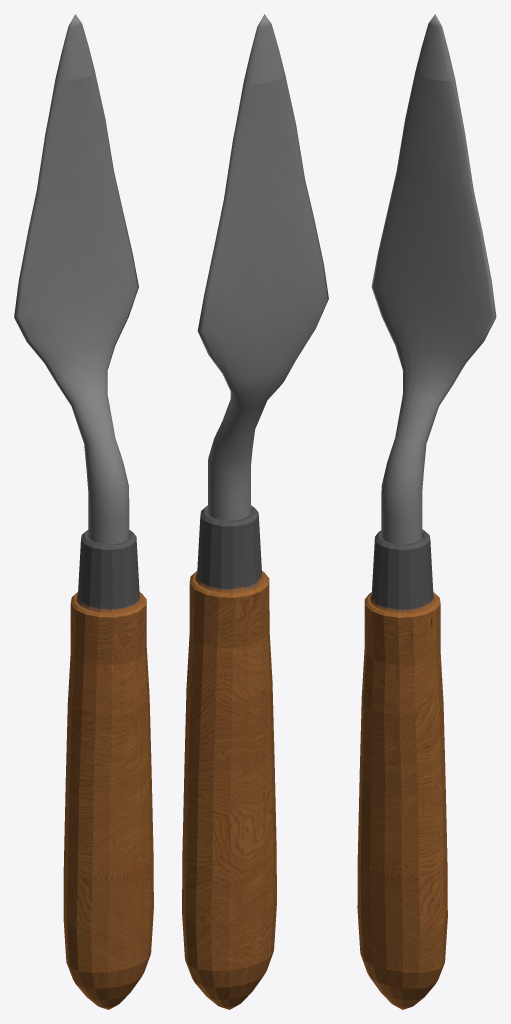
File: palette knife (full body).fbx
3 views of the same model, side by side, from view 1: azimuth 30°, elevation 25°; view 2: azimuth 210°, elevation 25°; view 3: azimuth 330°, elevation 25° (orthographic). The views are drawn at different scales.
Visible parts, largest first — view 1: pCylinder1, pCylinder2; view 2: pCylinder1, pCylinder2; view 3: pCylinder1, pCylinder2.
Part boxes in pixels (bbox=[...]): pCylinder1: bbox=[63, 530, 153, 1009]; pCylinder2: bbox=[14, 14, 138, 544]; pCylinder1: bbox=[182, 505, 276, 1009]; pCylinder2: bbox=[197, 14, 328, 520]; pCylinder1: bbox=[357, 529, 447, 1009]; pCylinder2: bbox=[371, 14, 496, 544].
Size of the model in its own units: 3.77 by 27.98 by 2.95.
